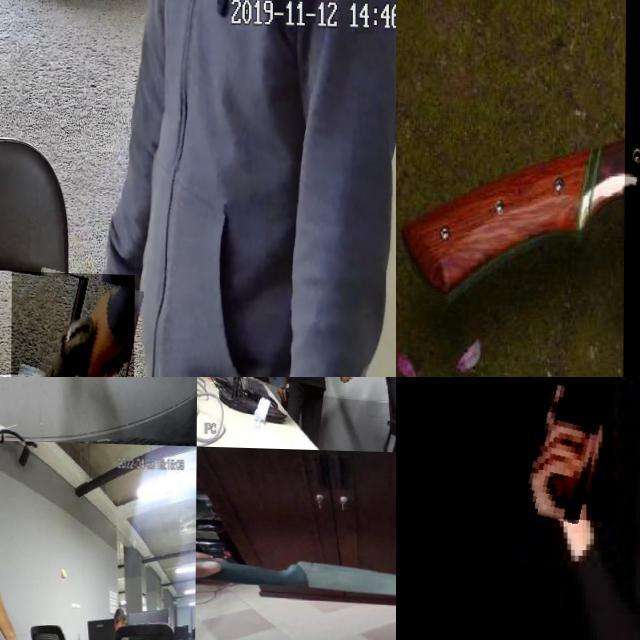-: (270, 552, 396, 609), (39, 377, 79, 456), (341, 377, 370, 393)
gun-knife-thesis - v11 Yolov5 augmented: (488, 377, 614, 519), (11, 269, 135, 377)
